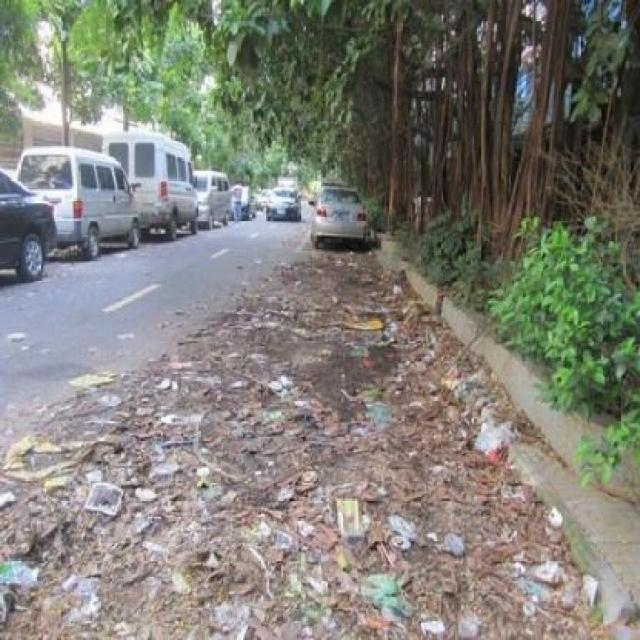garbage: (0, 403, 535, 638), (142, 228, 395, 422), (331, 283, 494, 460)
